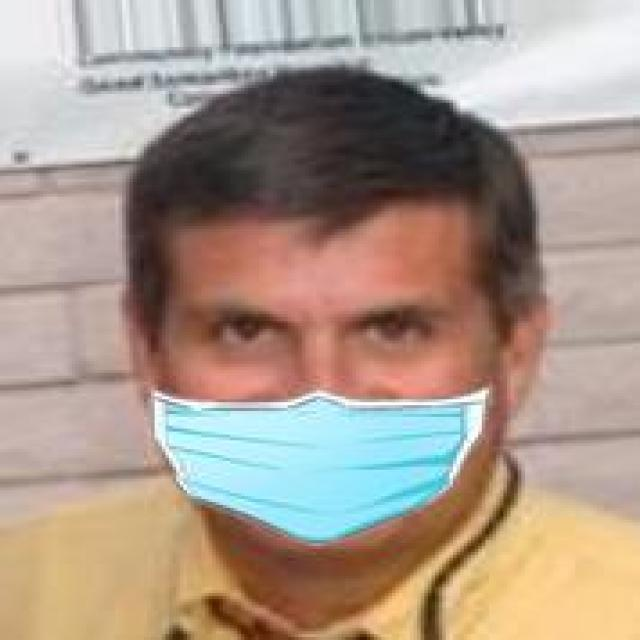mask: (79, 62, 590, 578)
